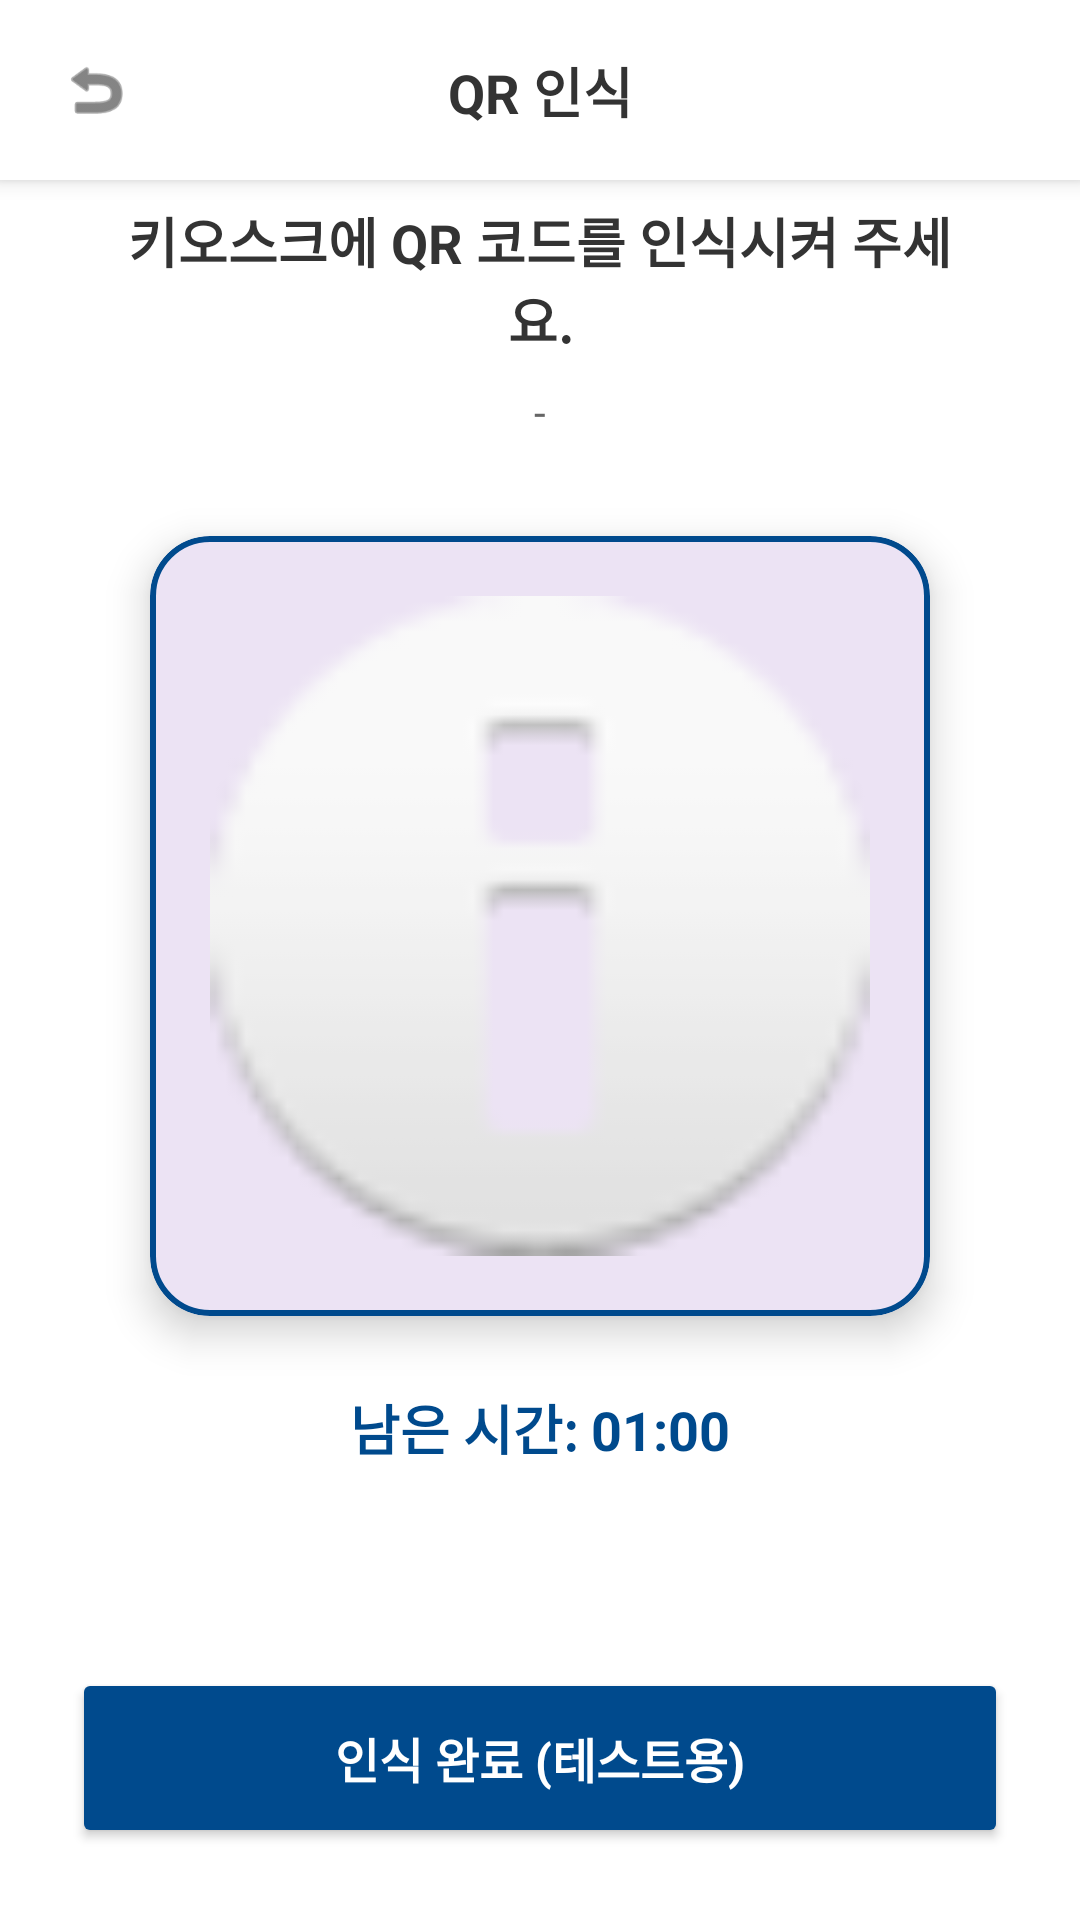

Where to tap for icons on this 1080x1920 app screen, as point (x, y):
revert: point (97, 90)
